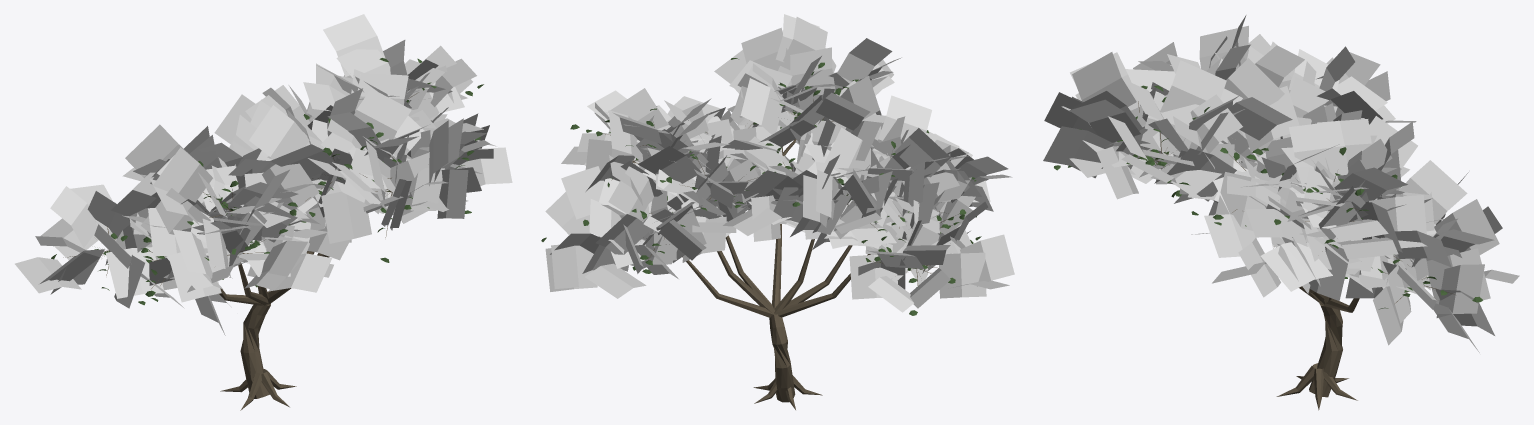
Rendered from CheneVert_Etale_LOD1.fbx.
3 renders of one model, left to right at view 1: azimuth 30°, elevation 25°; view 2: azimuth 150°, elevation 25°; view 3: azimuth 270°, elevation 25°, orthographic. The views are drawn at different scales.
Parts seen in each view (by area): view 1: CheneVert_Etale_LOD1; view 2: CheneVert_Etale_LOD1; view 3: CheneVert_Etale_LOD1.
Boxes of the visible parts, x1,y1,x2,y2 form: CheneVert_Etale_LOD1: (15, 14, 512, 410); CheneVert_Etale_LOD1: (541, 14, 1014, 409); CheneVert_Etale_LOD1: (1043, 15, 1519, 410).
Size of the model in its own units: 841 by 567 by 698.
